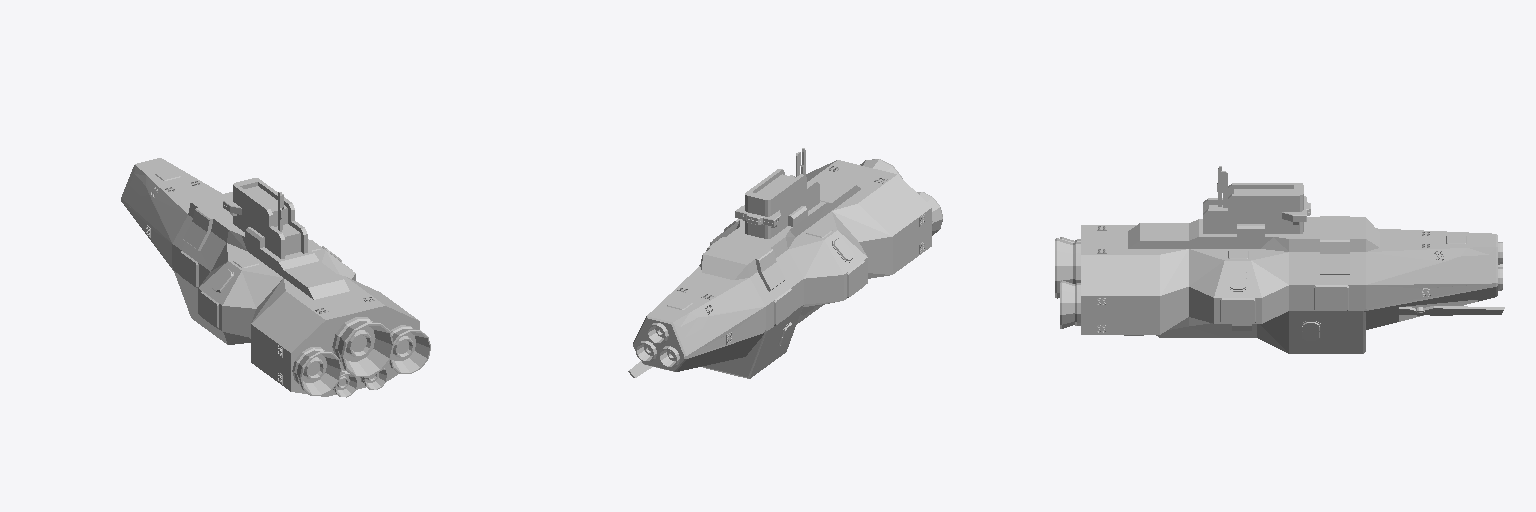
Rendered from Axford Heavy Cruiser.obj.
The picture shows the model from 3 angles: view 1: azimuth 30°, elevation 25°; view 2: azimuth 150°, elevation 25°; view 3: azimuth 270°, elevation 25°; orthographic projection.
Visible parts, largest first — view 1: CruiserSingleMatStern_LOD0, CruiserSingleMatTop_LOD0, CruiserSingleMatBow_LOD0, CruiserEngines_LOD0; view 2: CruiserSingleMatBow_LOD0, CruiserSingleMatStern_LOD0, CruiserSingleMatTop_LOD0, CruiserEngines_LOD0; view 3: CruiserSingleMatStern_LOD0, CruiserSingleMatBow_LOD0, CruiserSingleMatTop_LOD0, CruiserEngines_LOD0.
Boxes of the visible parts, x1,y1,x2,y2 form: CruiserSingleMatStern_LOD0: [198, 239, 419, 396]; CruiserSingleMatTop_LOD0: [188, 178, 349, 299]; CruiserSingleMatBow_LOD0: [121, 158, 227, 344]; CruiserEngines_LOD0: [146, 181, 430, 397]; CruiserSingleMatBow_LOD0: [628, 250, 803, 378]; CruiserSingleMatStern_LOD0: [710, 160, 931, 323]; CruiserSingleMatTop_LOD0: [700, 148, 860, 279]; CruiserEngines_LOD0: [636, 159, 942, 367]; CruiserSingleMatStern_LOD0: [1081, 225, 1288, 353]; CruiserSingleMatBow_LOD0: [1289, 228, 1504, 353]; CruiserSingleMatTop_LOD0: [1128, 166, 1379, 253]; CruiserEngines_LOD0: [1055, 226, 1502, 332].
Size of the model in its own units: 6.9 by 8.4 by 19.69.